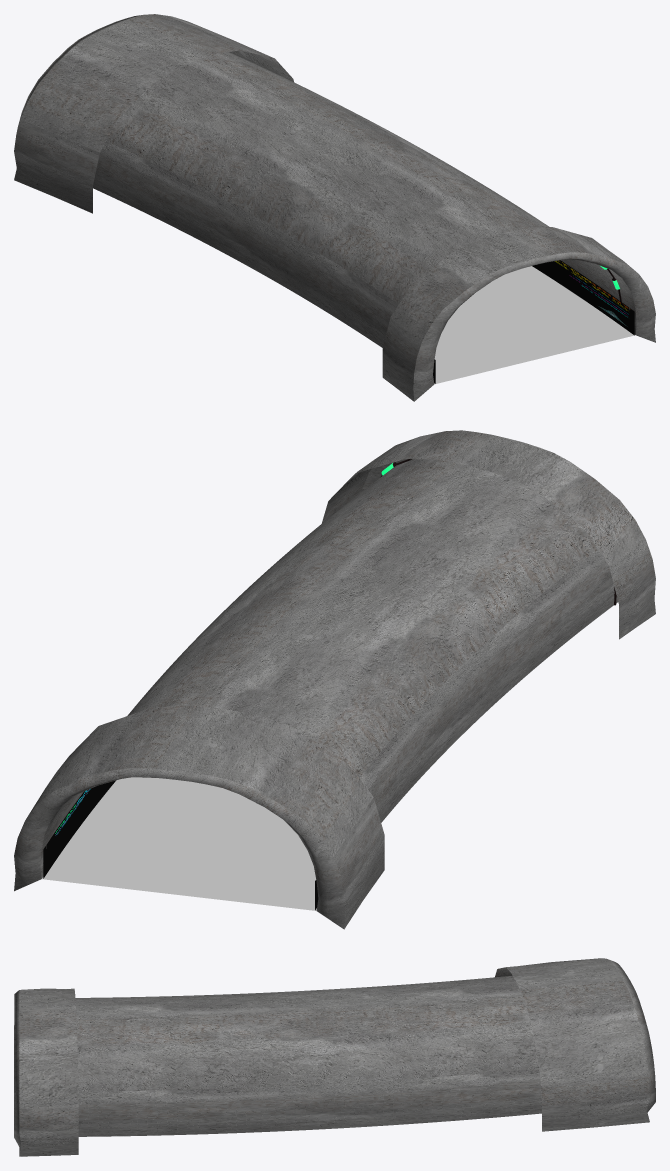
Rendered from road_city_tube_left15.FBX.
3 views of the same model, one above another, from view 1: azimuth 30°, elevation 25°; view 2: azimuth 150°, elevation 25°; view 3: azimuth 270°, elevation 25° (orthographic). The views are drawn at different scales.
Parts seen in each view (by area): view 1: road_city_left15; view 2: road_city_left15; view 3: road_city_left15.
Part boxes in pixels (x1=…): road_city_left15: x1=14, y1=14, x2=655, y2=401; road_city_left15: x1=14, y1=430, x2=655, y2=929; road_city_left15: x1=14, y1=958, x2=655, y2=1156.
Bounding box in the file's own units: 62.88 × 127 × 21.93.
